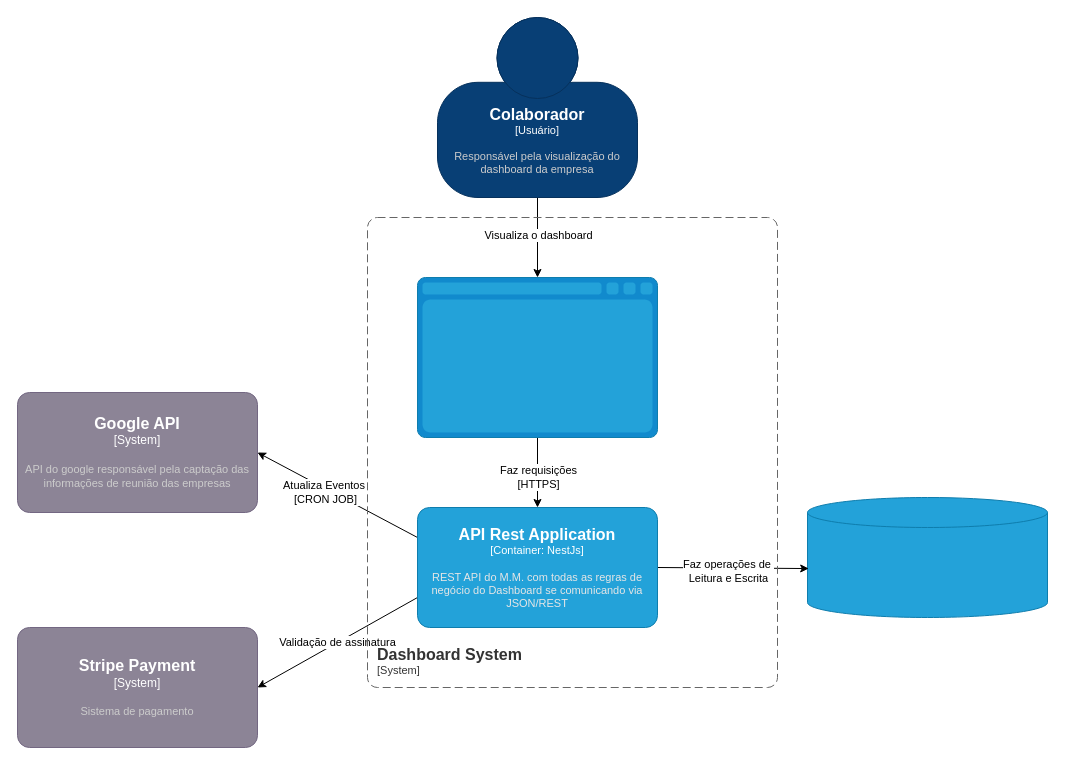
The diagram is 1065 pixels wide and 765 high, and some of its shapes have lost their labels. Each missing label, with the centre of its shape:
"Banco de dados [Container: RDS PostgreSQL 14] Banco de dados relacional" belongs at point 927,557.
"Web Application [Container: Angular 15] Aplicação de dashboard analítico do M.M." belongs at point 537,357.
